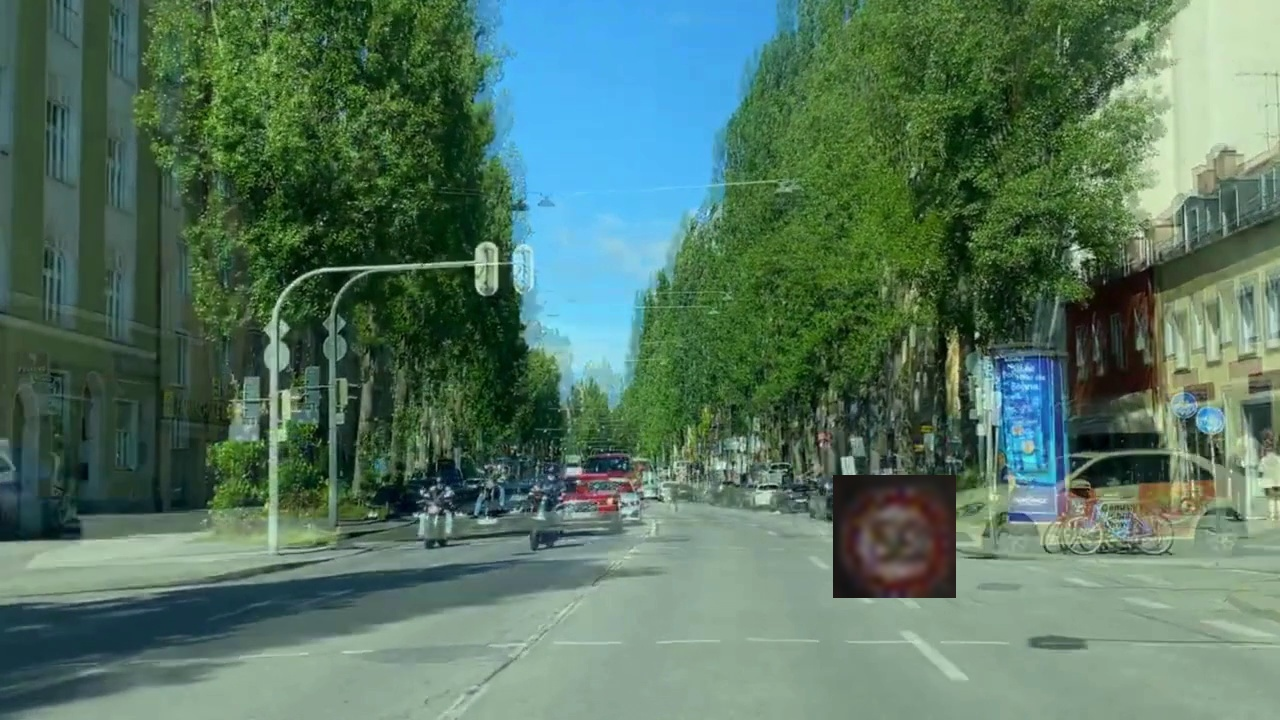Speed 50: (833, 475, 956, 598)
